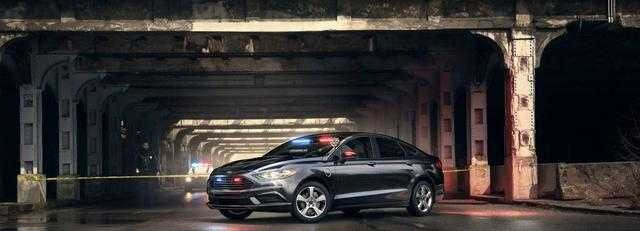Police Car: (202, 117, 440, 231)
